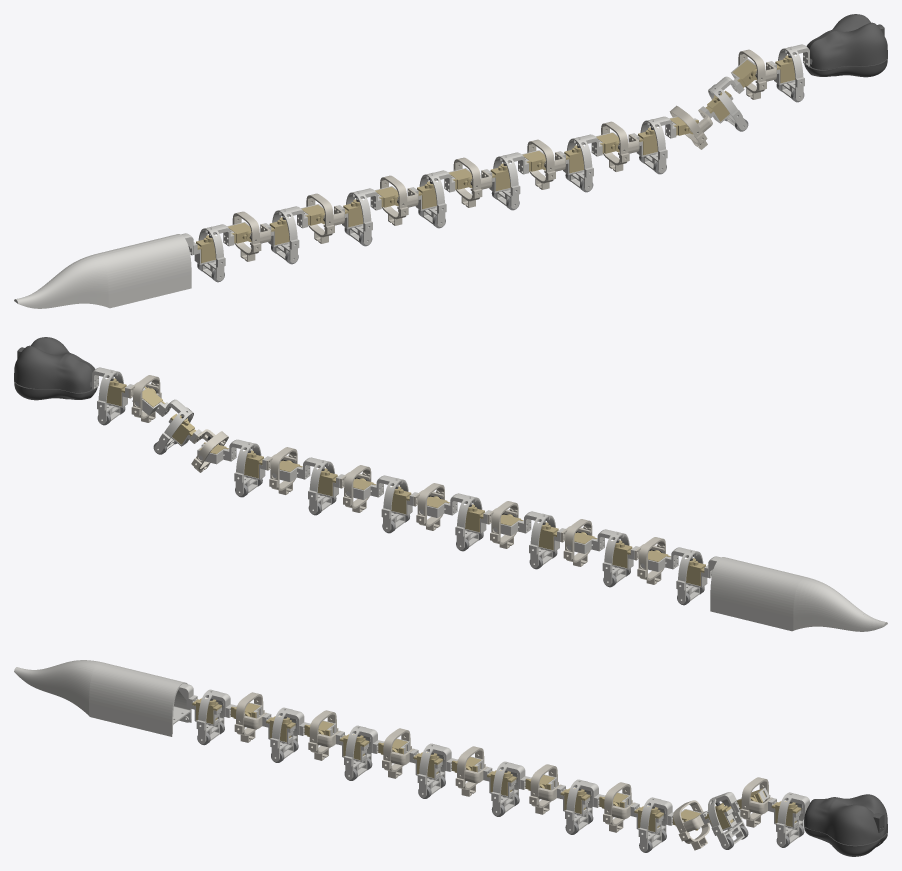
The model's file is snake_vh17_head_lift.glb.
The picture shows the model from 3 angles, top to bottom: view 1: azimuth 30°, elevation 25°; view 2: azimuth 150°, elevation 25°; view 3: azimuth 330°, elevation 25°; orthographic projection.
Parts seen in each view (by area): view 1: tail, head, m01H_rib, m07H_rib, m09H_rib, m05H_rib, m03H_rib, m11H_rib, m15H_rib, m02V_rib, m08V_rib, m00V_rib (+7 smaller); view 2: tail, head, m02V_rib, m08V_rib, m00V_rib, m06V_rib, m12V_rib, m04V_rib, m10V_rib, m16V_rib, m03H_rib, m01H_rib (+7 smaller); view 3: tail, head, m13H_rib, m01H_rib, m15H_rib, m07H_rib, m03H_rib, m05H_rib, m11H_rib, m09H_rib, m00V_rib, m12V_rib (+8 smaller).
Part boxes in pixels (x1=…): tail: x1=14, y1=234, x2=191, y2=308; head: x1=804, y1=14, x2=887, y2=77; m01H_rib: x1=232, y1=211, x2=271, y2=261; m07H_rib: x1=453, y1=157, x2=492, y2=207; m09H_rib: x1=527, y1=139, x2=565, y2=189; m05H_rib: x1=380, y1=175, x2=418, y2=225; m03H_rib: x1=306, y1=193, x2=344, y2=243; m11H_rib: x1=601, y1=121, x2=639, y2=171; m15H_rib: x1=738, y1=49, x2=776, y2=99; m02V_rib: x1=272, y1=206, x2=304, y2=262; m08V_rib: x1=493, y1=152, x2=525, y2=209; m00V_rib: x1=198, y1=224, x2=230, y2=280; tail: x1=710, y1=557, x2=887, y2=631; head: x1=14, y1=337, x2=97, y2=400; m02V_rib: x1=597, y1=529, x2=629, y2=585; m08V_rib: x1=376, y1=475, x2=408, y2=531; m00V_rib: x1=671, y1=547, x2=703, y2=603; m06V_rib: x1=450, y1=493, x2=482, y2=549; m12V_rib: x1=229, y1=439, x2=261, y2=496; m04V_rib: x1=524, y1=511, x2=555, y2=567; m10V_rib: x1=303, y1=457, x2=334, y2=514; m16V_rib: x1=92, y1=367, x2=123, y2=423; m03H_rib: x1=561, y1=519, x2=592, y2=566; m01H_rib: x1=634, y1=537, x2=665, y2=584; tail: x1=14, y1=660, x2=191, y2=736; head: x1=804, y1=794, x2=887, y2=856; m13H_rib: x1=673, y1=800, x2=709, y2=850; m01H_rib: x1=234, y1=692, x2=266, y2=742; m15H_rib: x1=740, y1=777, x2=772, y2=827; m07H_rib: x1=455, y1=746, x2=487, y2=796; m03H_rib: x1=308, y1=710, x2=340, y2=760; m05H_rib: x1=382, y1=728, x2=414, y2=778; m11H_rib: x1=603, y1=782, x2=635, y2=832; m09H_rib: x1=529, y1=764, x2=561, y2=814; m00V_rib: x1=196, y1=689, x2=230, y2=743; m12V_rib: x1=638, y1=797, x2=672, y2=851.
Bounding box in the file's own units: 1150 × 124 × 74.19.
